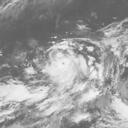cyclone: (44, 49, 82, 90)
